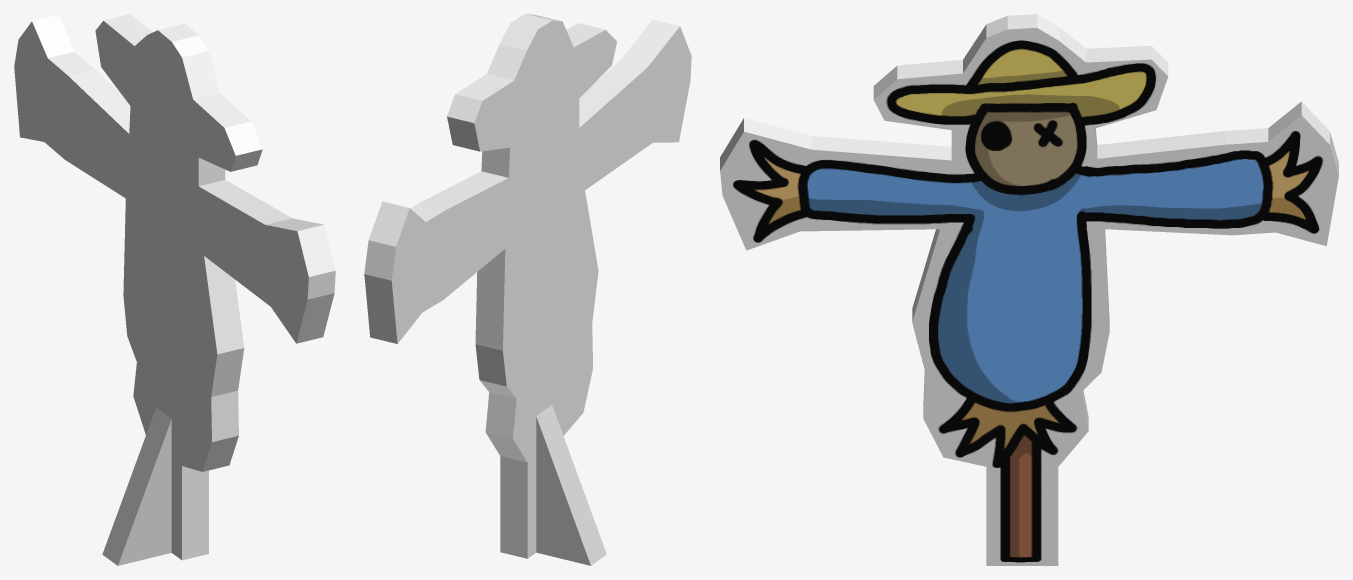
File: scarecrow.fbx
The picture shows the model from 3 angles, left to right: view 1: azimuth 30°, elevation 25°; view 2: azimuth 150°, elevation 25°; view 3: azimuth 270°, elevation 25°; orthographic projection. The views are drawn at different scales.
Parts seen in each view (by area): view 1: pCube53, pCube54; view 2: pCube53, pCube54; view 3: pCube53.
Boxes of the visible parts, x1,y1,x2,y2 form: pCube53: [14, 14, 335, 560]; pCube54: [102, 407, 171, 565]; pCube53: [364, 14, 691, 558]; pCube54: [536, 405, 606, 565]; pCube53: [720, 14, 1338, 565].
Bounding box in the file's own units: 1.5 × 9.1 × 9.48.
